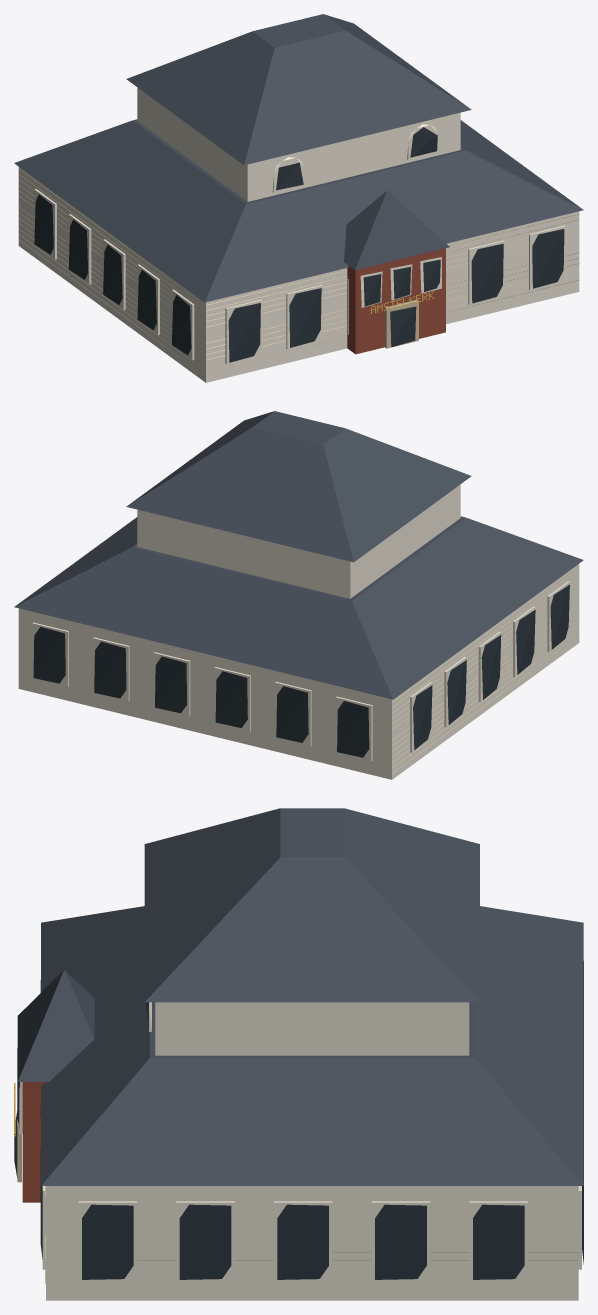
The model's file is amstelkerk.lod1.glb.
3 renders of one model, top to bottom at view 1: azimuth 30°, elevation 25°; view 2: azimuth 150°, elevation 25°; view 3: azimuth 270°, elevation 25°, orthographic. The views are drawn at different scales.
Visible parts, largest first — view 1: amstelkerk; view 2: amstelkerk; view 3: amstelkerk.
Boxes of the visible parts, x1,y1,x2,y2 form: amstelkerk: (14,14,583,382); amstelkerk: (14,411,583,779); amstelkerk: (14,808,583,1300).
Bounding box in the file's own units: 31.92 × 19.1 × 29.16.
